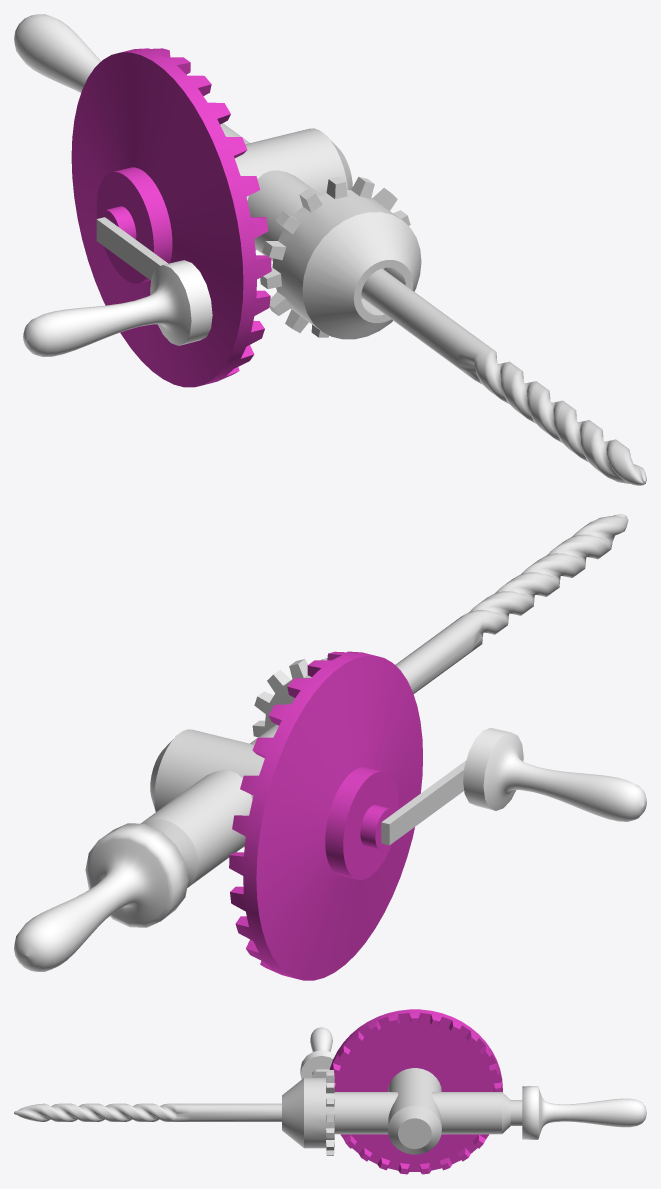
Rendered from Handrill.glb.
3 views of the same model, one above another, from view 1: azimuth 30°, elevation 25°; view 2: azimuth 150°, elevation 25°; view 3: azimuth 270°, elevation 25° (orthographic). The views are drawn at different scales.
Visible parts, largest first — view 1: Cylinder, Cylinder.001, Circle, BézierCurve, Cylinder.003, BézierCurve.001, Cylinder.002, Cube; view 2: Cylinder, BézierCurve.001, Circle, BézierCurve, Cylinder.002, Cylinder.003, Cube, Cylinder.001; view 3: Cylinder, Cylinder.002, Circle, Cylinder.003, Cylinder.001, BézierCurve.001, BézierCurve.
Part boxes in pixels (box(x1,y1,x2,y2)): Cylinder: box(71, 48, 271, 387); Cylinder.001: box(260, 176, 421, 339); Circle: box(361, 268, 646, 485); BézierCurve: box(23, 260, 212, 356); Cylinder.003: box(234, 128, 352, 249); BézierCurve.001: box(14, 14, 101, 92); Cylinder.002: box(220, 123, 320, 261); Cube: box(96, 217, 167, 280); Cylinder: box(229, 651, 422, 980); BézierCurve.001: box(14, 823, 188, 971); Circle: box(395, 514, 628, 693); BézierCurve: box(463, 728, 646, 821); Cylinder.002: box(141, 724, 278, 887); Cylinder.003: box(150, 729, 264, 847); Cube: box(381, 760, 466, 845); Cylinder.001: box(252, 658, 327, 737); Cylinder: box(329, 1009, 502, 1174); Cylinder.002: box(334, 1092, 522, 1134); Circle: box(14, 1103, 281, 1121); Cylinder.003: box(388, 1068, 441, 1154); Cylinder.001: box(282, 1070, 334, 1155); BézierCurve.001: box(522, 1086, 646, 1139); BézierCurve: box(300, 1027, 335, 1079).
Size of the model in its own units: 5.39 by 3.99 by 14.38.
